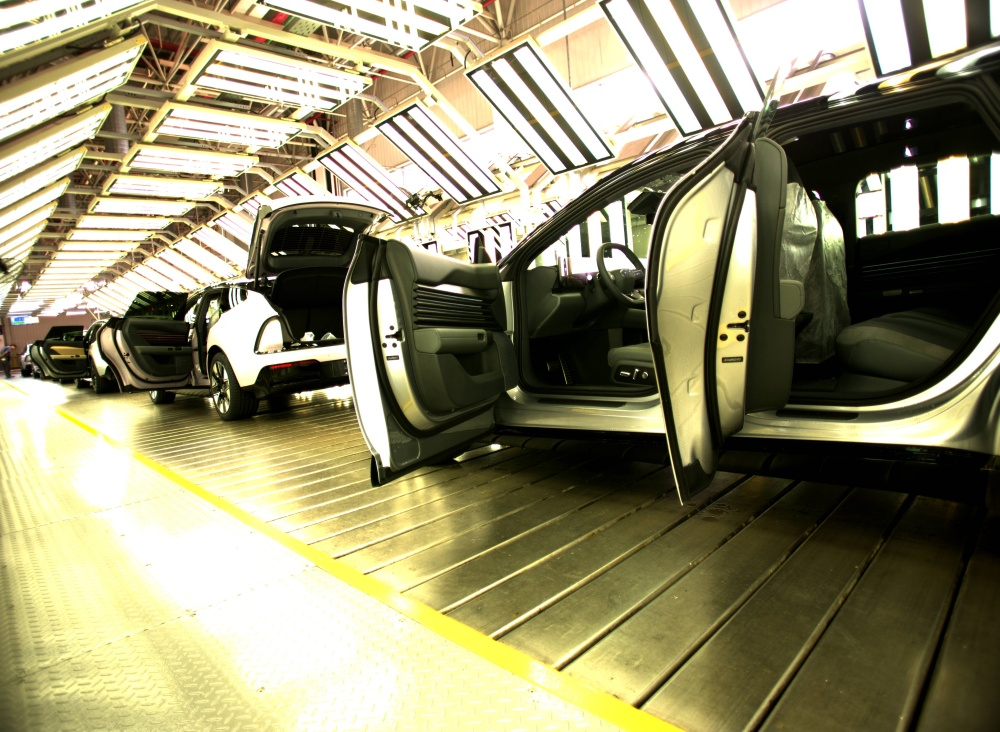armrest_color: (412, 326, 490, 355)
panel_color: (410, 278, 489, 330)
